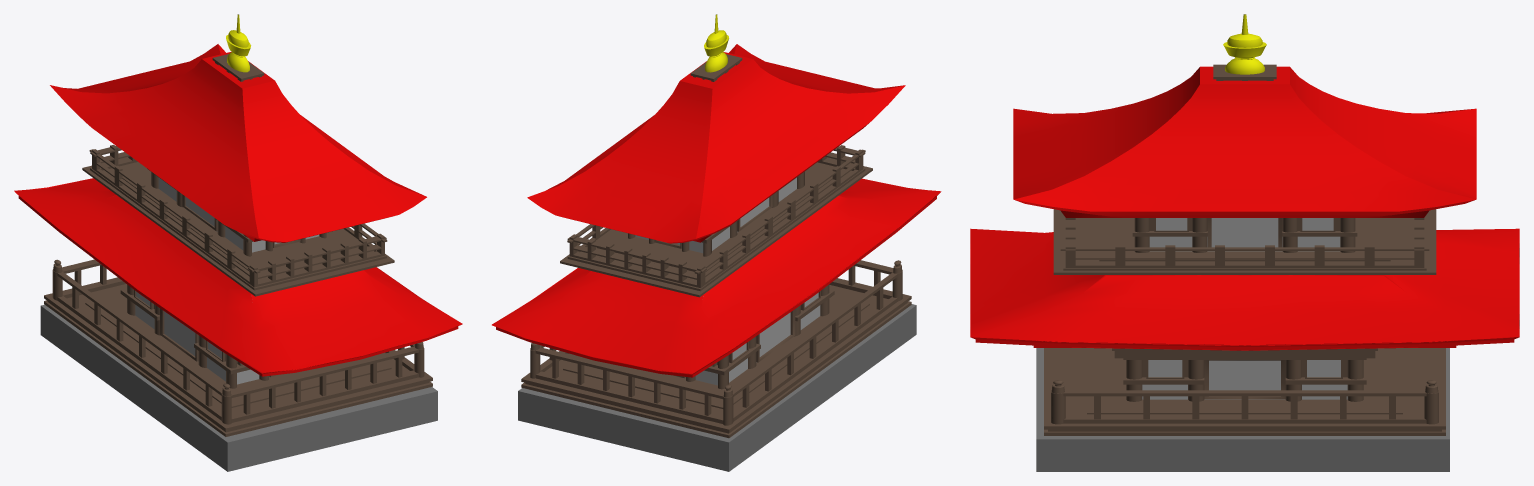
The model's file is Japanese_house_06.fbx.
The picture shows the model from 3 angles, left to right: view 1: azimuth 30°, elevation 25°; view 2: azimuth 150°, elevation 25°; view 3: azimuth 270°, elevation 25°; orthographic projection. The views are drawn at different scales.
Visible parts, largest first — view 1: Japanese_house_06; view 2: Japanese_house_06; view 3: Japanese_house_06.
Boxes of the visible parts, <box> form: Japanese_house_06: <box>14,14,462,471</box>; Japanese_house_06: <box>492,14,941,471</box>; Japanese_house_06: <box>970,14,1519,471</box>.
Size of the model in its own units: 130 by 214 by 265.
